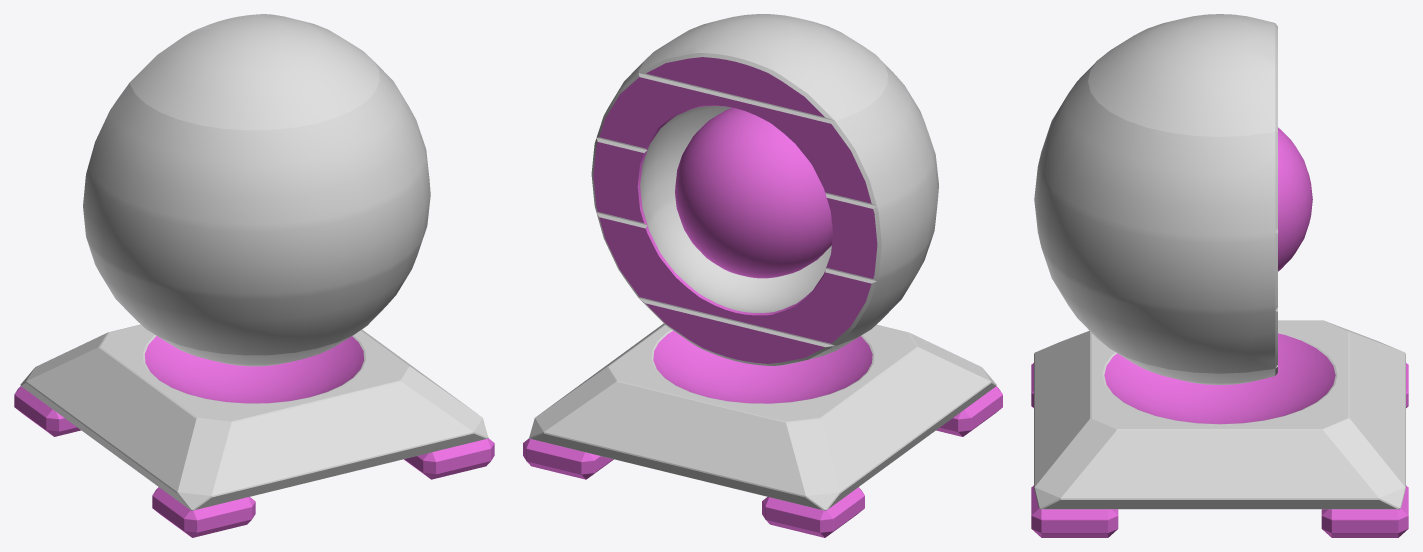
Rendered from Giant02.glb.
3 views of the same model, side by side, from view 1: azimuth 30°, elevation 25°; view 2: azimuth 150°, elevation 25°; view 3: azimuth 270°, elevation 25° (orthographic). The views are drawn at different scales.
Parts seen in each view (by area): view 1: Cube, Sphere.002, Sphere.003, Sphere.001, Sphere.004, Cube.001, Sphere; view 2: Cube, Core, Sphere.004, Sphere.002, Sphere.001, Sphere.003, Cube.001, Sphere; view 3: Cube, Sphere.002, Sphere.003, Sphere.001, Sphere.004, Cube.001, Core, Sphere.
Part boxes in pixels (x1,y1,x2,y2): Cube: (20,324,488,510); Sphere.002: (88,61,425,224); Sphere.003: (83,144,430,299); Sphere.001: (130,14,379,130); Sphere.004: (88,235,424,355); Cube.001: (14,386,494,537); Sphere: (153,333,352,366); Cube: (529,323,996,510); Core: (675,107,832,278); Sphere.004: (596,196,931,345); Sphere.002: (596,55,933,205); Sphere.001: (638,14,887,120); Sphere.003: (591,106,938,280); Cube.001: (523,386,1002,537); Sphere: (639,298,866,365); Cube: (1034,320,1405,509); Sphere.002: (1040,60,1277,235); Sphere.003: (1034,147,1277,314); Sphere.001: (1088,14,1277,136); Sphere.004: (1043,254,1277,373); Cube.001: (1031,363,1408,537); Core: (1278,127,1312,271); Sphere: (1112,350,1277,384).
Size of the model in its own units: 1.3 by 1.64 by 1.3.
